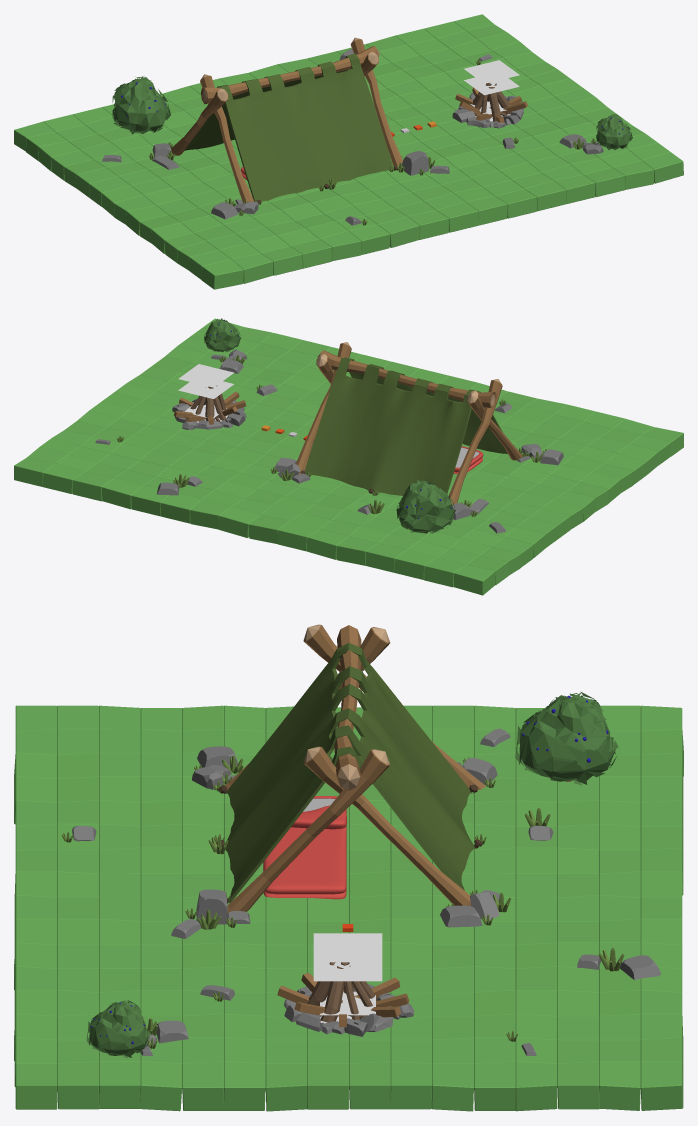
The model's file is Tent.fbx.
3 views of the same model, one above another, from view 1: azimuth 30°, elevation 25°; view 2: azimuth 150°, elevation 25°; view 3: azimuth 270°, elevation 25° (orthographic). The views are drawn at different scales.
Visible parts, largest first — view 1: Plane, Tent, Sphere, Cylinder, Cylinder.004, Cylinder.001, Sphere.002, Icosphere.001, Plane.005, Cylinder.003, Plane.004, Cube.008; view 2: Plane, Tent, Sphere, Cylinder, Cylinder.003, Sphere.002, Icosphere.001, Cylinder.002, Plane.005, Cylinder.004, Plane.004; view 3: Plane, Tent, Sphere, Cube.013, Cylinder.001, Cylinder.002, Sphere.002, Plane.005, Icosphere.001, Cylinder, Plane.004, Cylinder.003 (+3 smaller).
Part boxes in pixels (x1,y1,x2,y2): Plane: (14,14,683,289); Tent: (184,53,393,201); Sphere: (112,76,170,134); Cylinder: (200,46,378,104); Cylinder.004: (200,76,254,203); Cylinder.001: (350,39,402,167); Sphere.002: (596,114,632,149); Icosphere.001: (452,93,523,128); Plane.005: (464,60,519,83); Cylinder.003: (171,88,228,155); Plane.004: (464,77,519,95); Cube.008: (402,151,428,175); Plane: (14,318,683,595); Tent: (304,357,507,495); Sphere: (396,479,455,533); Cylinder: (320,350,496,408); Cylinder.003: (448,380,502,504); Sphere.002: (204,318,240,351); Icosphere.001: (172,399,246,429); Cylinder.002: (296,343,351,473); Plane.005: (178,364,233,387); Cylinder.004: (467,390,522,460); Plane.004: (178,381,233,398); Plane: (14,705,683,1111); Tent: (225,643,475,903); Sphere: (515,691,619,785); Cube.013: (263,796,346,899); Cylinder.001: (227,749,389,912); Cylinder.002: (303,746,471,906); Sphere.002: (86,1000,151,1058); Plane.005: (313,933,382,962); Icosphere.001: (284,984,414,1036); Cylinder: (334,625,361,790); Plane.004: (313,962,382,981); Cylinder.003: (303,624,485,789).
Bounding box in the file's own units: 4757 × 1101 × 3538.
